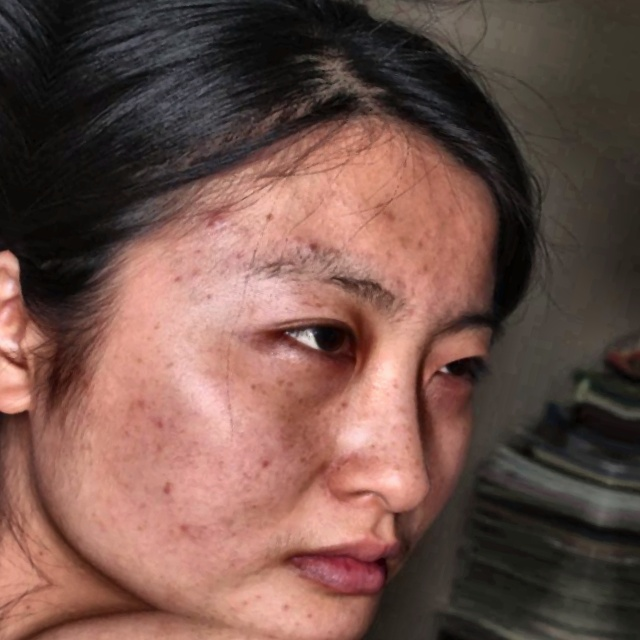comedone: (186, 196, 244, 249)
